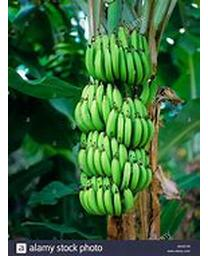banana: (74, 24, 155, 217)
